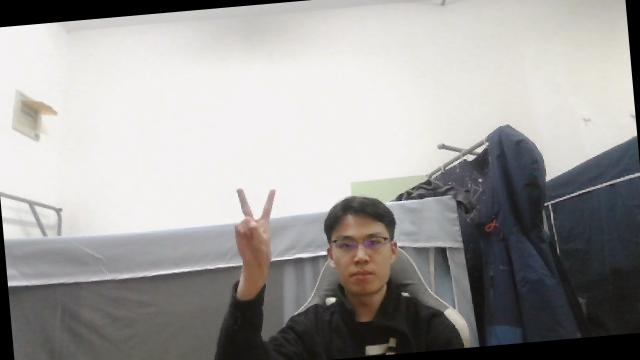two: (229, 184, 285, 267)
